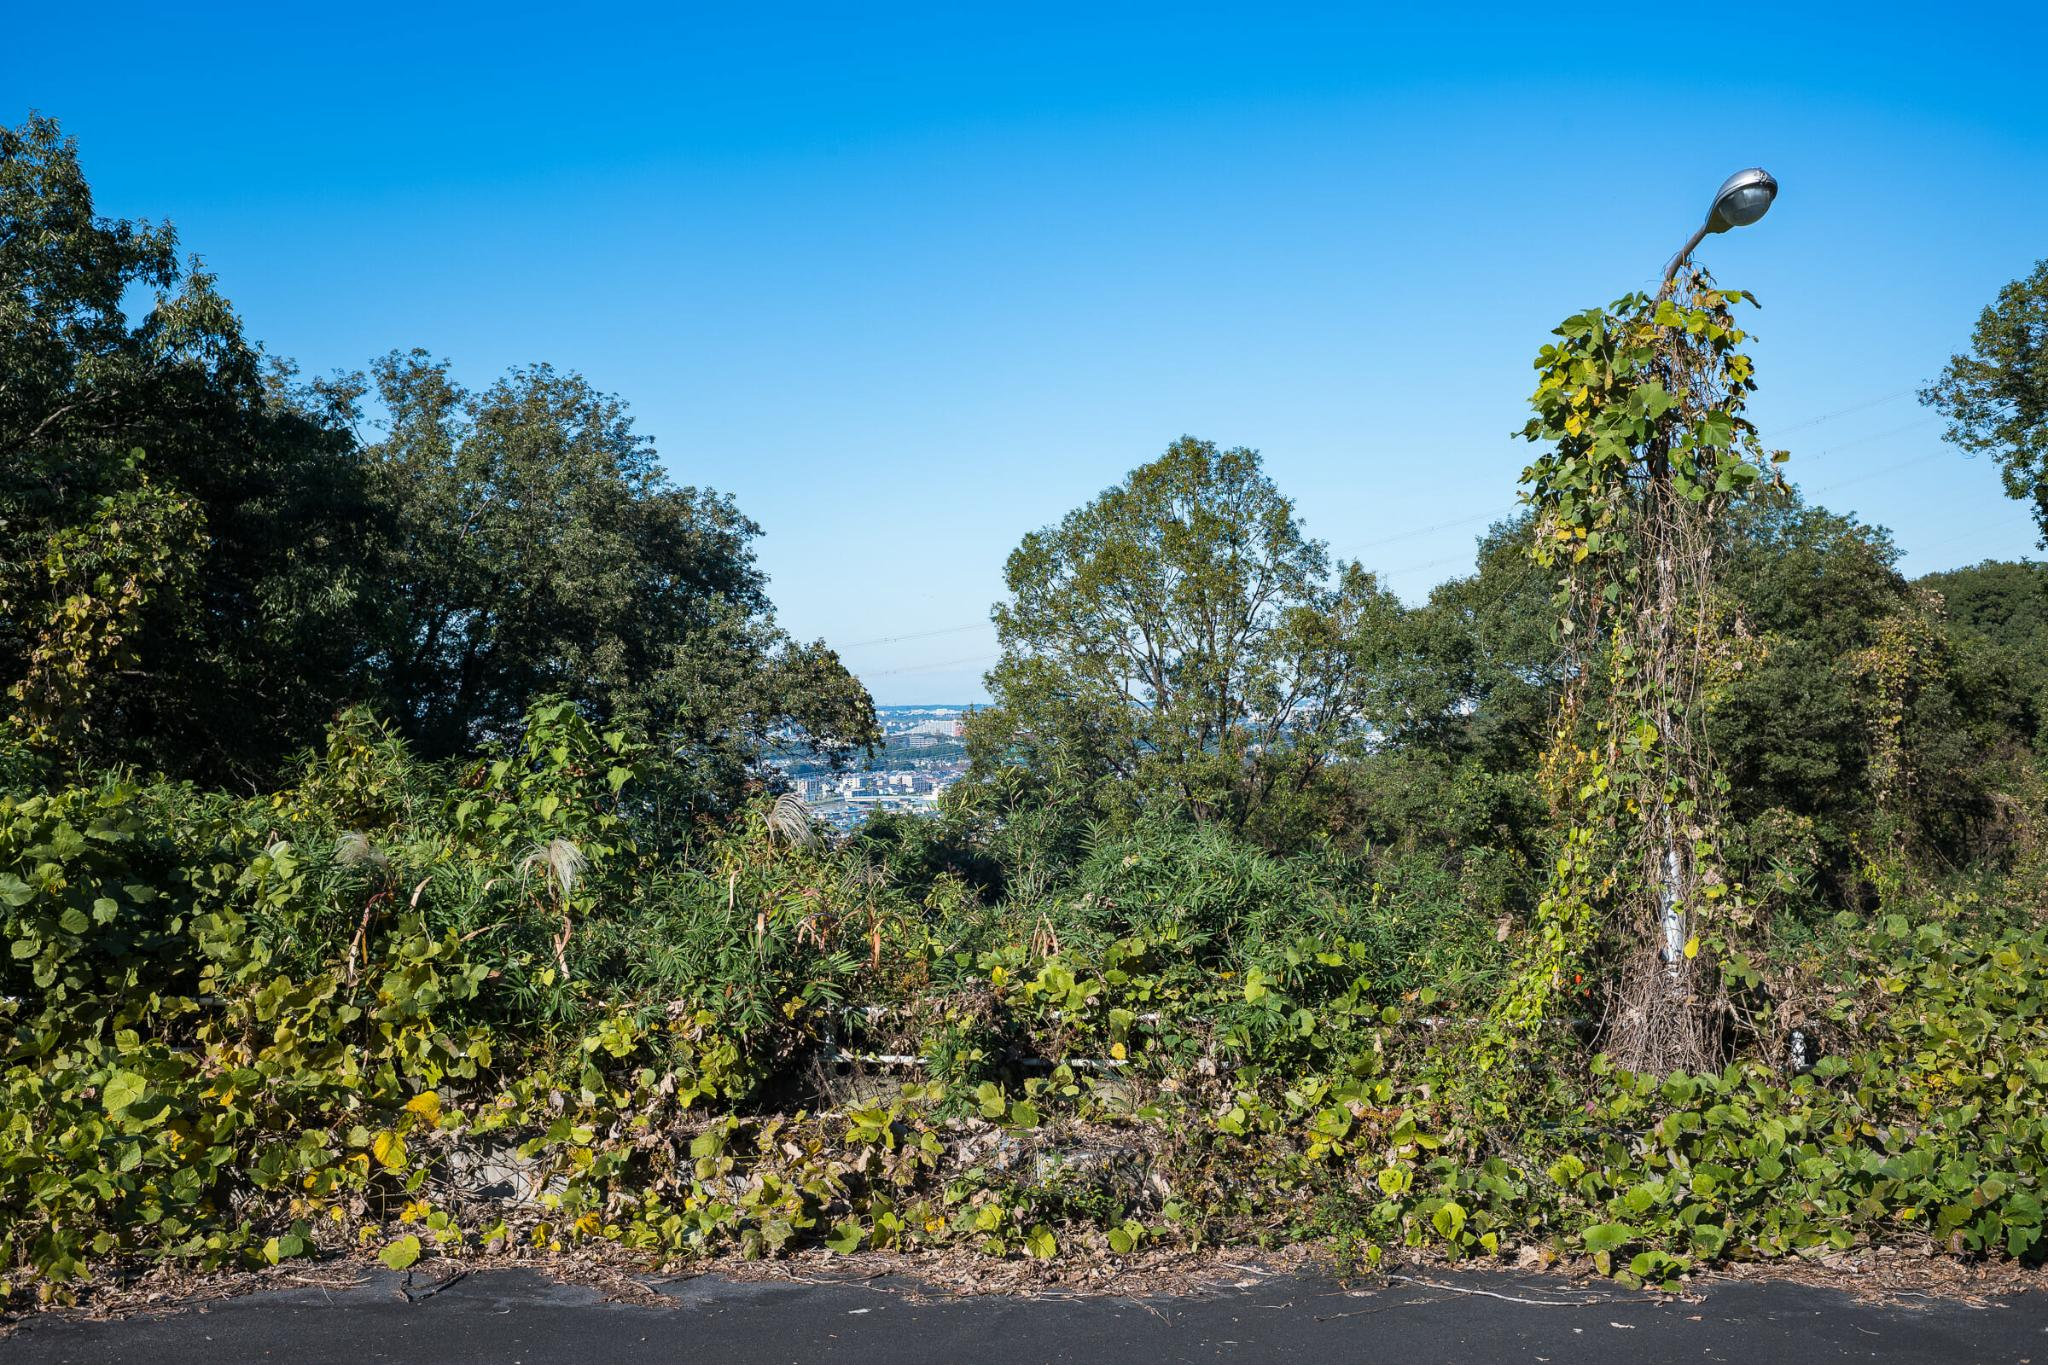overgrown grass: (0, 308, 2046, 1299)
